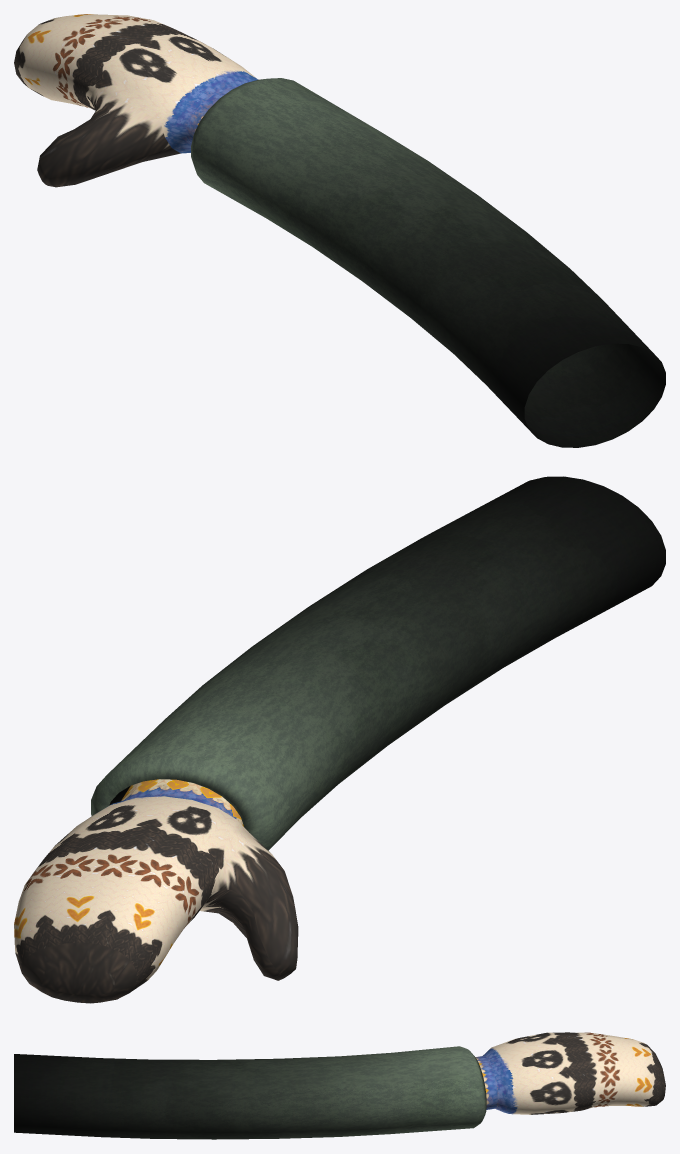
The model's file is right_hand.glb.
3 views of the same model, one above another, from view 1: azimuth 30°, elevation 25°; view 2: azimuth 150°, elevation 25°; view 3: azimuth 270°, elevation 25° (orthographic). The views are drawn at different scales.
Visible parts, largest first — view 1: handright; view 2: handright; view 3: handright.
Part boxes in pixels (x1,y1,x2,y2): handright: (14, 14, 665, 447); handright: (14, 476, 665, 1003); handright: (14, 1032, 665, 1139).
Size of the model in its own units: 1.04 by 0.4497 by 3.56.
1 material, 1 textured.
